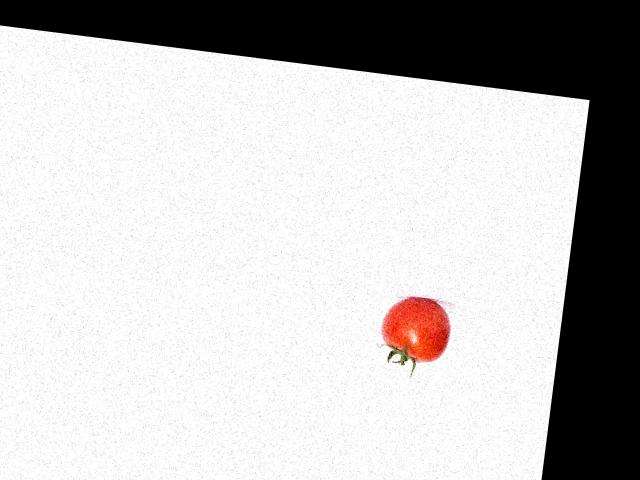tomato: (378, 294, 454, 365)
